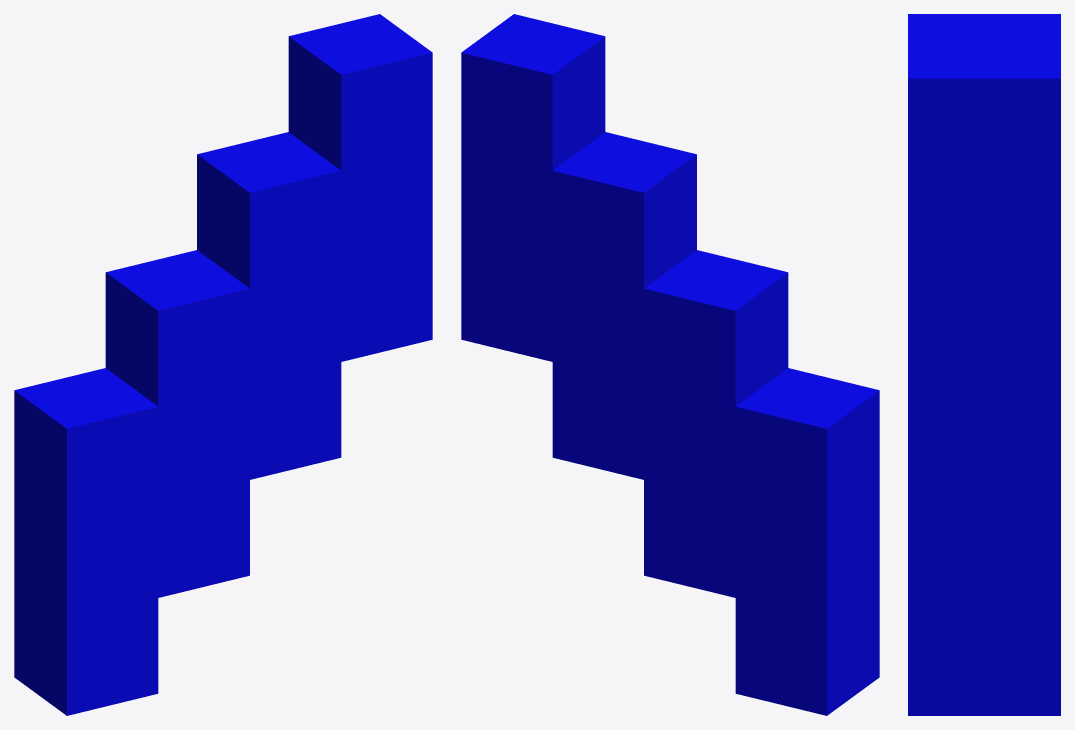
File: Boat_Engine_Propeller.fbx
The picture shows the model from 3 angles, left to right: view 1: azimuth 30°, elevation 25°; view 2: azimuth 150°, elevation 25°; view 3: azimuth 270°, elevation 25°; orthographic projection. The views are drawn at different scales.
Parts seen in each view (by area): view 1: Boat_Engine_Propeller.001; view 2: Boat_Engine_Propeller.001; view 3: Boat_Engine_Propeller.001.
Part boxes in pixels (box(x1,y1,x2,y2)): Boat_Engine_Propeller.001: box(14, 14, 432, 715); Boat_Engine_Propeller.001: box(461, 14, 879, 715); Boat_Engine_Propeller.001: box(908, 14, 1060, 715).
Size of the model in its own units: 0.4 by 0.6 by 0.1.
1 material, 1 textured.
